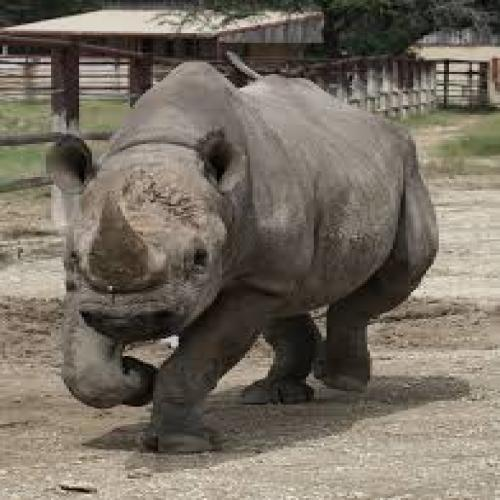rhino-endangered: (34, 56, 444, 456)
